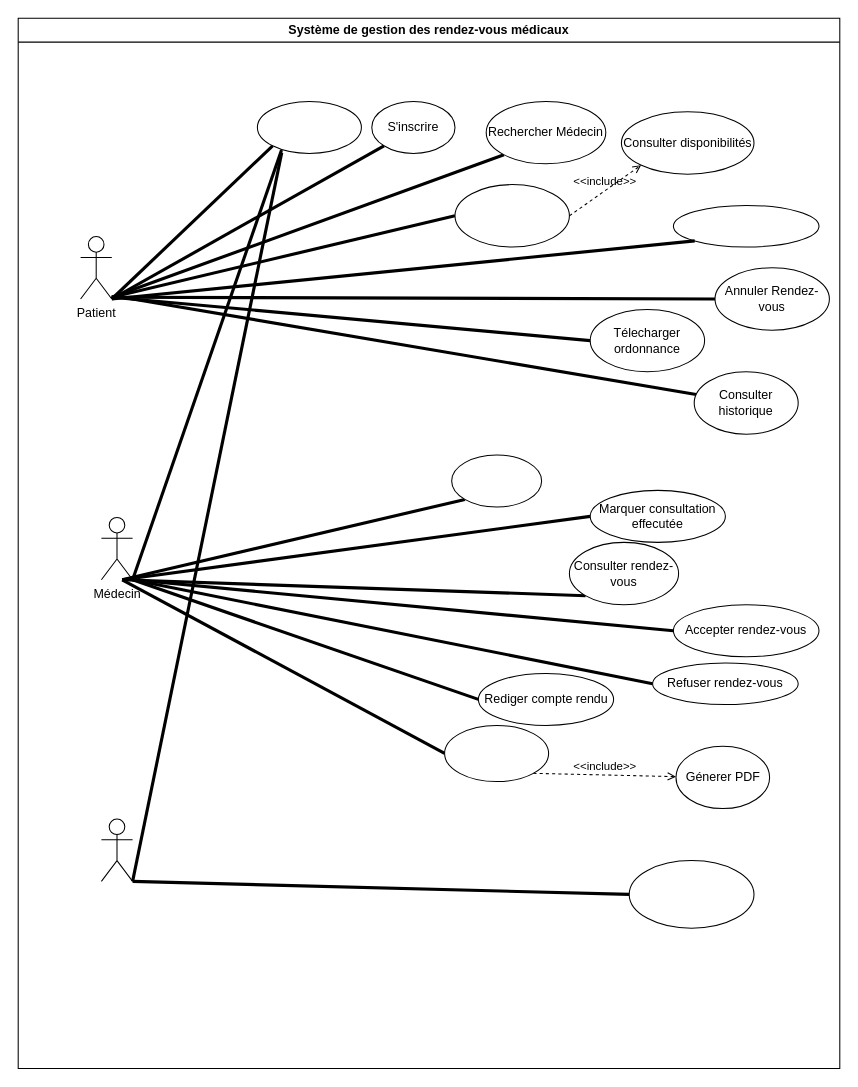
This 858x1087 diagram has some shape labels left out. Each missing label, with the box of its shape:
Administrateur: (100, 818, 133, 881)
Créer ordonnance: (444, 724, 549, 782)
Gérer Planning: (451, 454, 542, 507)
Gérer utilisateurs: (628, 860, 754, 928)
Modifier rendez-vous: (672, 204, 819, 247)
Prendre Rendez-vous: (454, 184, 569, 247)
S'authentifier: (256, 100, 361, 153)
